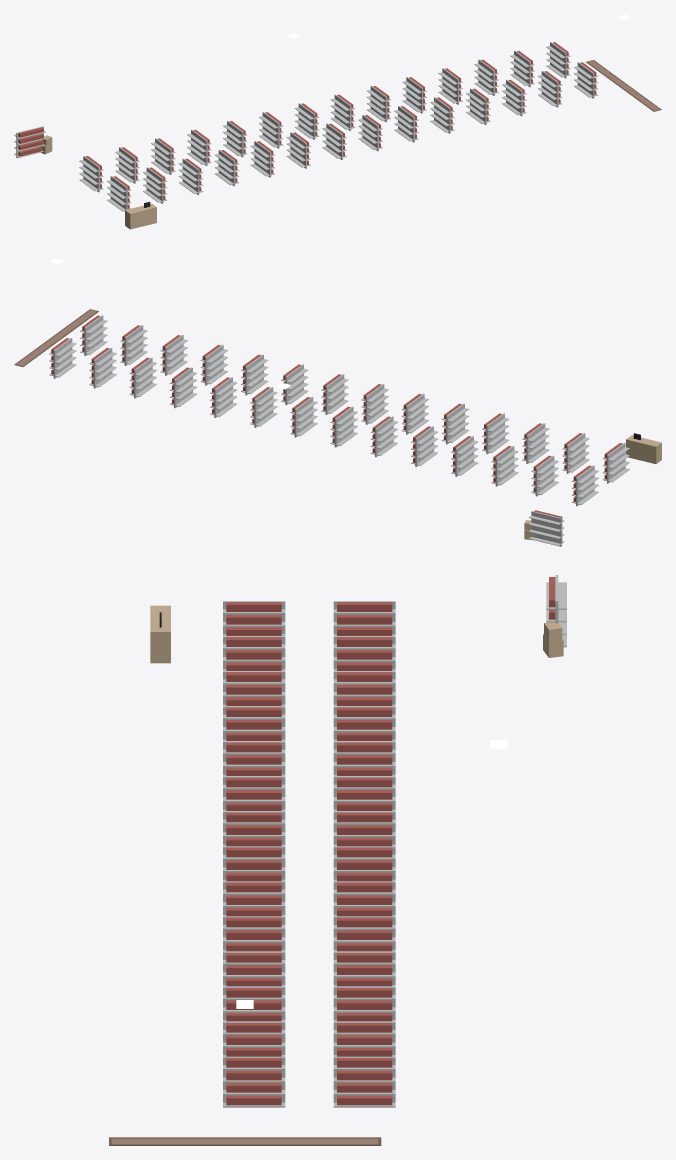
The model's file is fine-s0.glb.
The picture shows the model from 3 angles, top to bottom: view 1: azimuth 30°, elevation 25°; view 2: azimuth 150°, elevation 25°; view 3: azimuth 270°, elevation 25°; orthographic projection. The views are drawn at different scales.
Parts seen in each view (by area): view 1: shelving.000, shop-counter.000, shelf.007, shelf.012, shelf.009, shelf.016, shelf.027, shelf.005, shelf.010, shelf.014, shelf.025, shelf.003 (+19 smaller); view 2: shelving.000, shop-counter.000, shelf.011, shelf.013, shelf.015, shelf.025, shelf.003, shelf.016, shelf.026, shelf.023, shelf.001, shelf.005 (+19 smaller); view 3: shelf.026, shelf.027, soft-s0, shelf.024, shelf.025, shelf.012, shelf.013, shelf.014, shelf.015, shelf.016, shelf.017, shelf.018 (+19 smaller).
Boxes of the visible parts, x1,y1,x2,y2 form: shelving.000: (14,126,45,158); shop-counter.000: (125,201,156,229); shelf.007: (214,149,239,186); shelf.012: (294,103,319,139); shelf.009: (250,141,274,177); shelf.016: (366,85,390,122); shelf.027: (574,62,598,98); shelf.005: (178,158,203,195); shelf.010: (259,112,283,148); shelf.014: (330,94,355,130); shelf.025: (538,71,562,107); shelf.003: (143,167,167,203); shelving.000: (528,510,564,546); shop-counter.000: (626,433,661,463); shelf.011: (401,393,428,434); shelf.013: (361,384,388,424); shelf.015: (321,374,348,414); shelf.025: (120,325,147,365); shelf.003: (562,433,589,473); shelf.016: (250,387,277,427); shelf.026: (49,338,76,378); shelf.023: (160,335,187,375); shelf.001: (602,442,629,483); shelf.005: (522,423,549,463); shelf.026: (333,1056,395,1107); shelf.027: (223,1056,285,1107); soft-s0: (109,1137,381,1145); shelf.024: (333,1021,395,1056); shelf.025: (223,1021,285,1056); shelf.012: (333,811,395,846); shelf.013: (223,811,285,846); shelf.014: (333,846,395,881); shelf.015: (223,846,285,881); shelf.016: (333,881,395,916); shelf.017: (223,881,285,916); shelf.018: (333,916,395,951).
Size of the model in its own units: 35.65 by 4.41 by 13.26.
